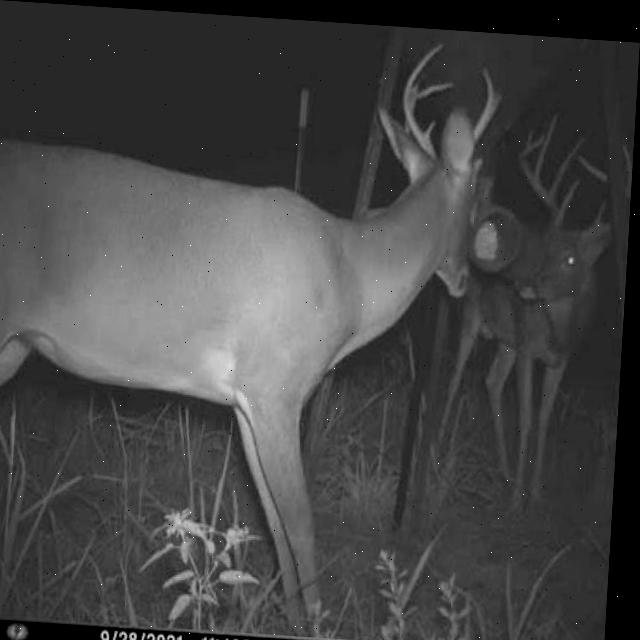Deer: (0, 12, 514, 640), (433, 80, 636, 529)
